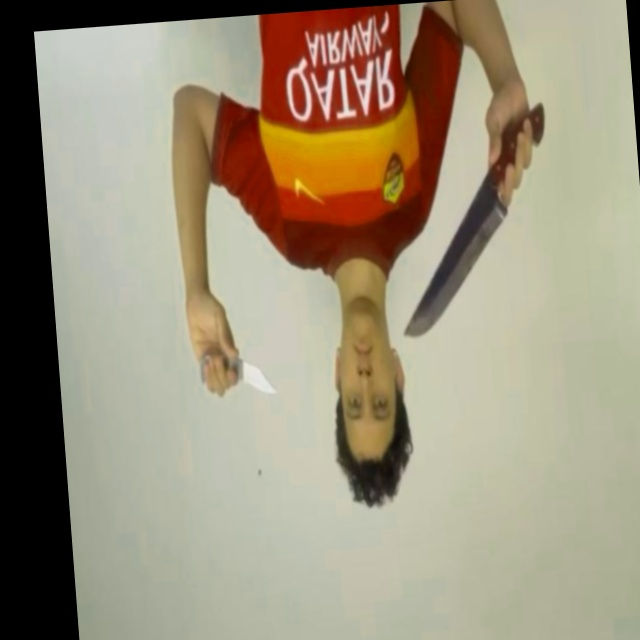Sharp-Object: (393, 207, 517, 338), (240, 357, 276, 394)
